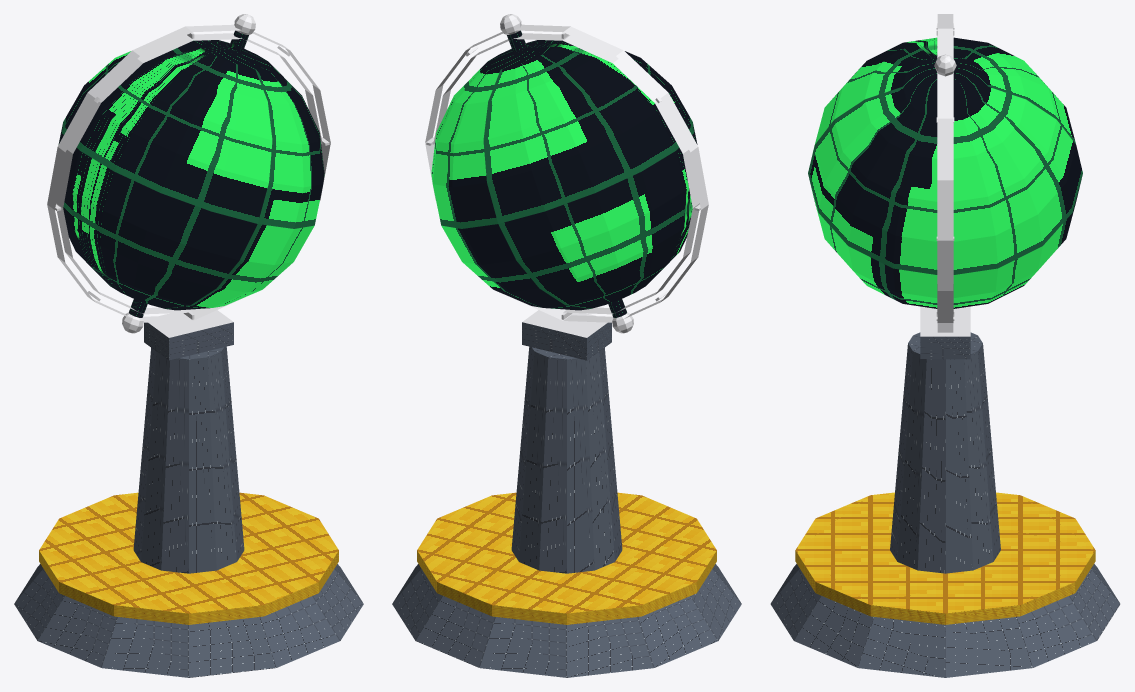
The model's file is globe_stand.glb.
3 renders of one model, left to right at view 1: azimuth 30°, elevation 25°; view 2: azimuth 150°, elevation 25°; view 3: azimuth 270°, elevation 25°, orthographic.
Parts seen in each view (by area): view 1: globe_stand; view 2: globe_stand; view 3: globe_stand.
Boxes of the visible parts, x1,y1,x2,y2 form: globe_stand: (14, 14, 363, 677); globe_stand: (392, 14, 741, 677); globe_stand: (770, 14, 1120, 677).
Size of the model in its own units: 0.56 by 1.02 by 0.56.
Materials: 4 (3 with a texture image).
